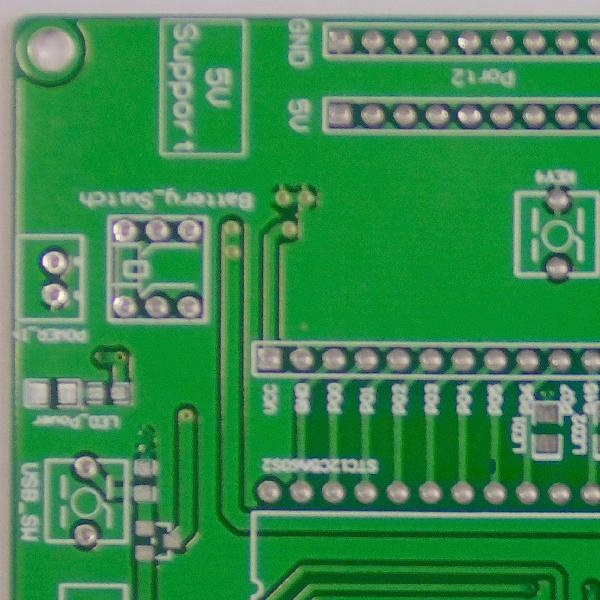mouse_bite: (481, 455, 503, 476)
